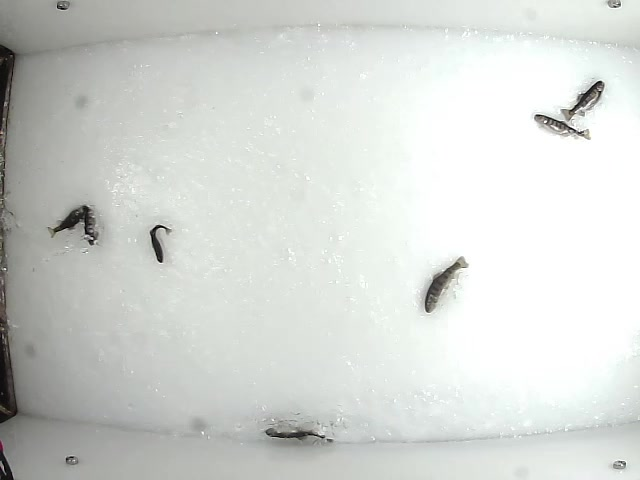fish: (421, 255, 471, 315), (558, 79, 605, 122), (533, 113, 591, 143), (45, 201, 90, 238), (263, 424, 336, 446), (147, 221, 176, 264), (82, 203, 101, 244)
